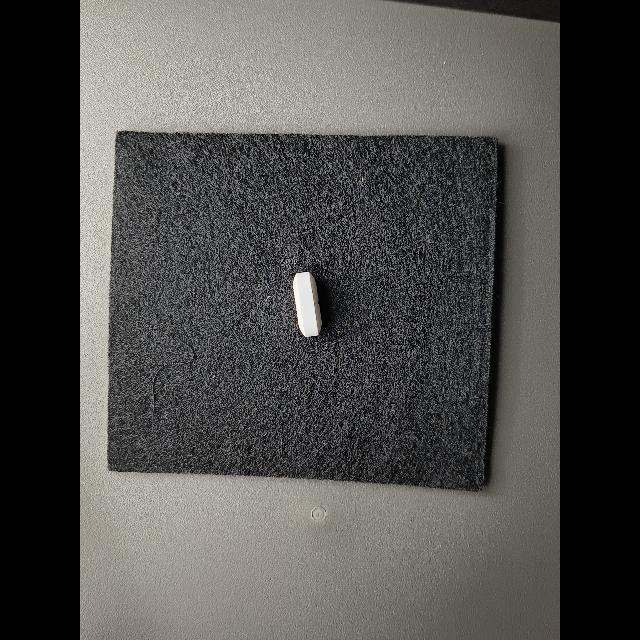Intact Pill: (293, 272, 322, 337)
